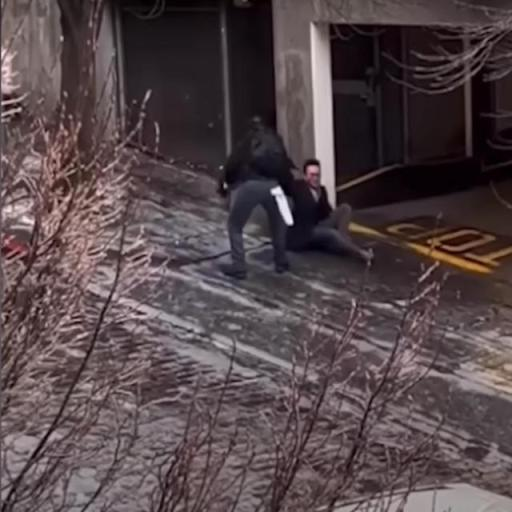Fall: (283, 154, 380, 271)
